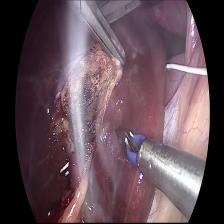Bipolar: (112, 122, 152, 166)
Grasper: (57, 0, 133, 82)
